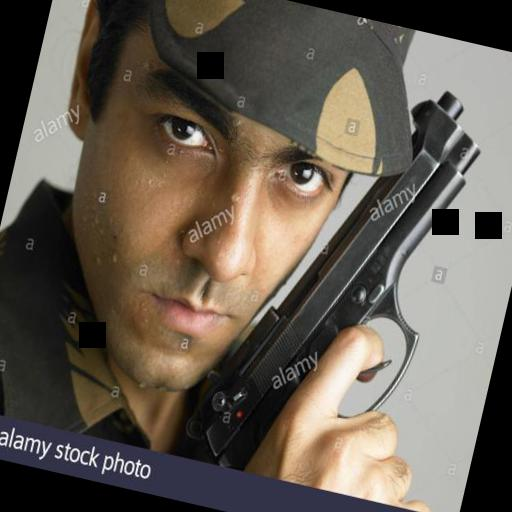Handgun: (176, 49, 495, 508)
